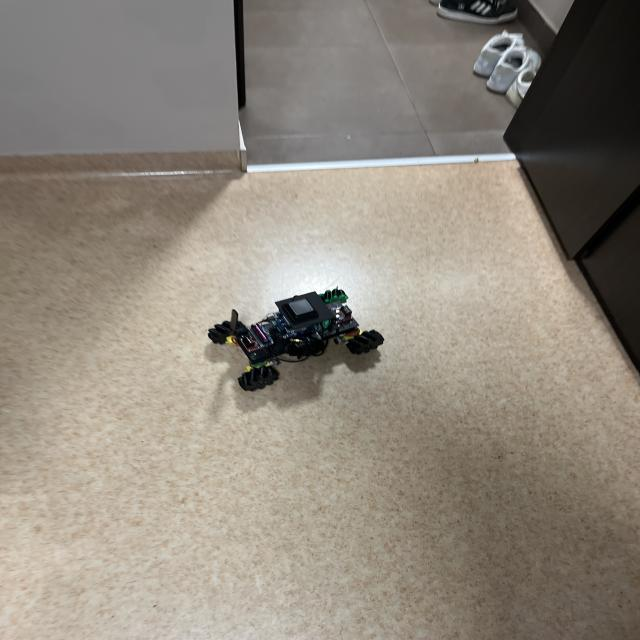robot: (208, 287, 384, 391)
